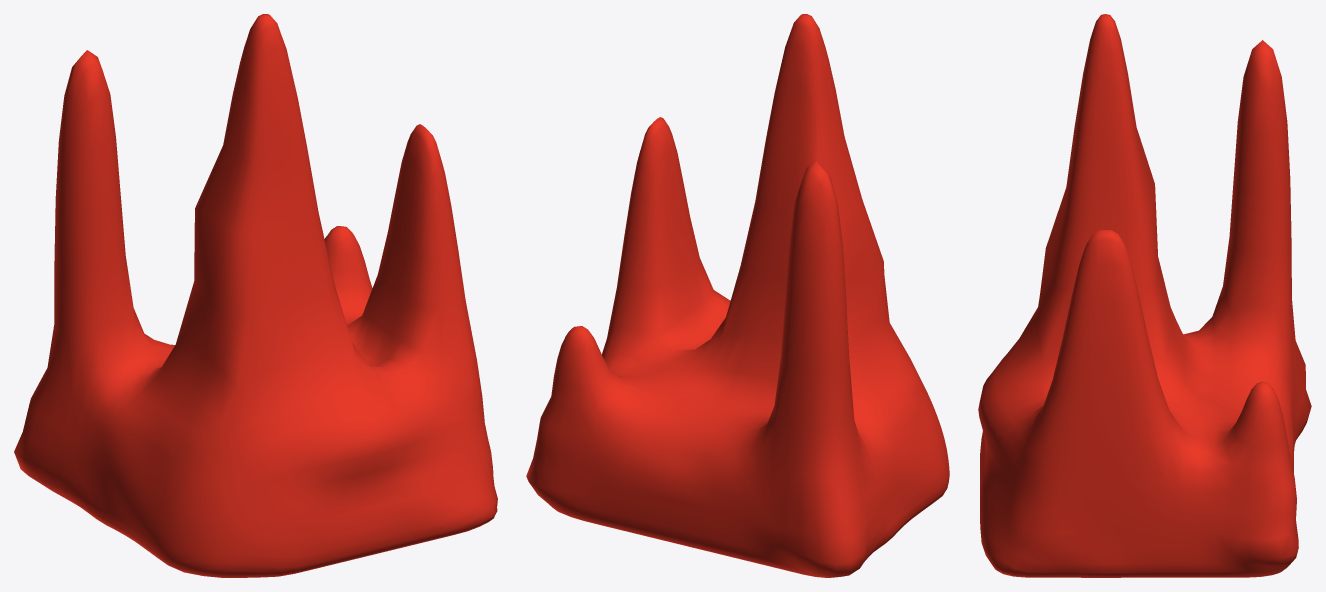
Rendered from smallspikes.fbx.
3 views of the same model, side by side, from view 1: azimuth 30°, elevation 25°; view 2: azimuth 150°, elevation 25°; view 3: azimuth 270°, elevation 25° (orthographic). The views are drawn at different scales.
Parts seen in each view (by area): view 1: Cube; view 2: Cube; view 3: Cube.
Boxes of the visible parts, x1,y1,x2,y2 form: Cube: (14,14,497,577); Cube: (526,14,949,577); Cube: (978,14,1311,577).
Size of the model in its own units: 588 by 805 by 503.
